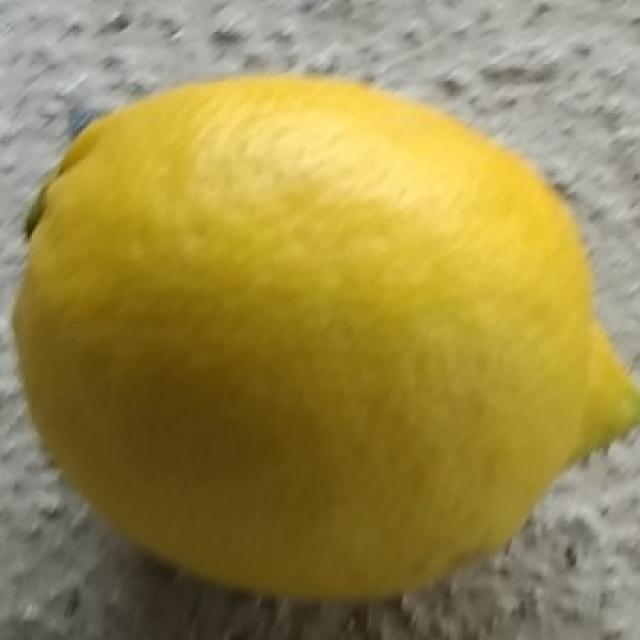Lemon: (10, 70, 640, 597)
